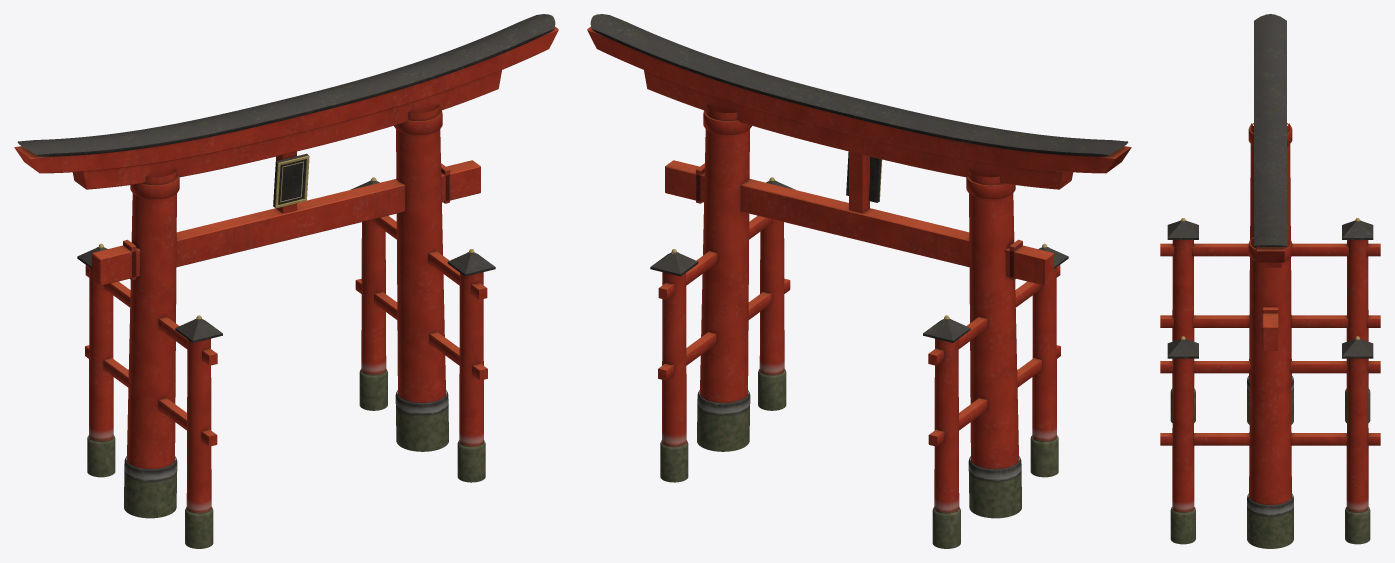
Rendered from shrine-torii.glb.
3 views of the same model, side by side, from view 1: azimuth 30°, elevation 25°; view 2: azimuth 150°, elevation 25°; view 3: azimuth 270°, elevation 25° (orthographic). The views are drawn at different scales.
Parts seen in each view (by area): view 1: lod0; view 2: lod0; view 3: lod0.
Part boxes in pixels (x1,y1,x2,y2): lod0: (14,14,558,548); lod0: (587,14,1131,548); lod0: (1160,14,1380,548).
Size of what is drawn, in the model's own units: 17.56 by 12.41 by 7.08.
Materials: 1 (1 with a texture image).
